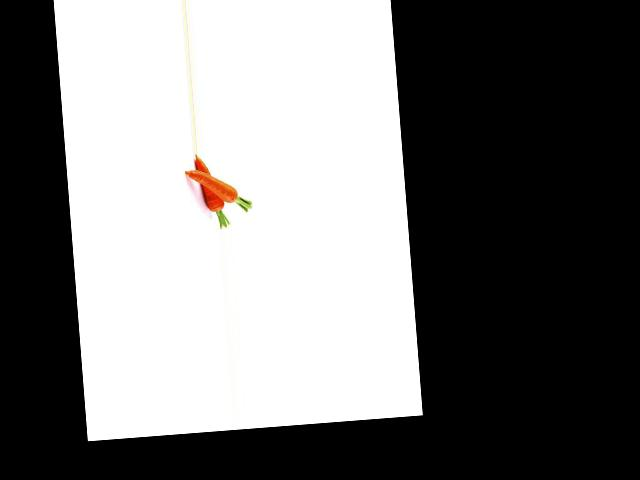carrot: (197, 153, 222, 222)
